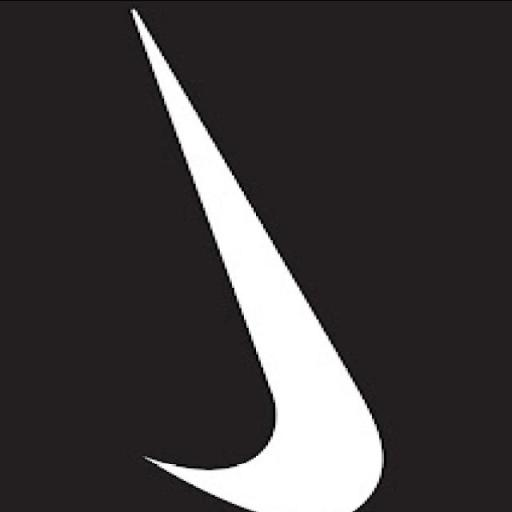Nike: (123, 5, 386, 512)
